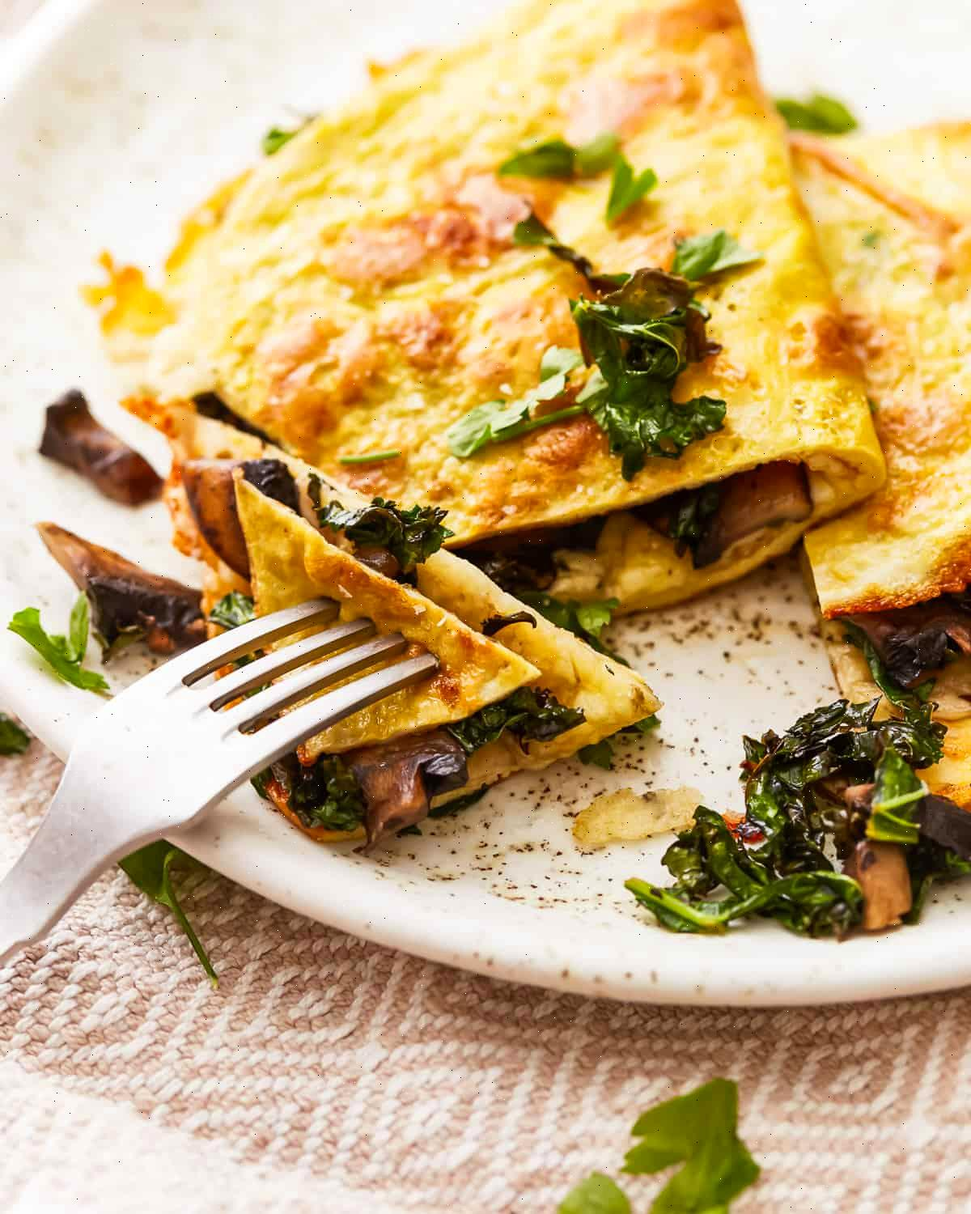omelette: (136, 49, 971, 613)
